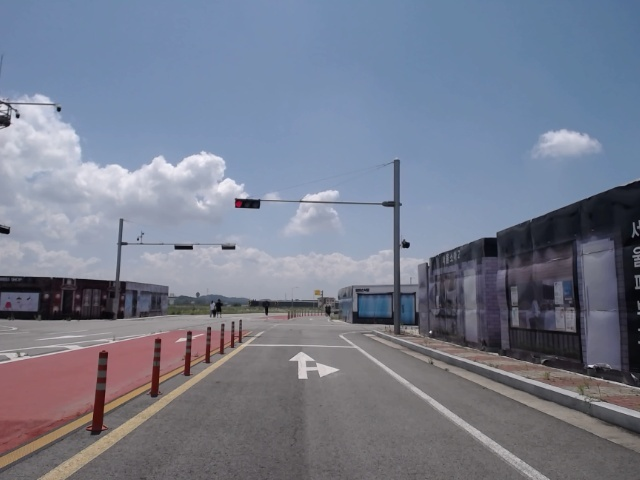red_3: (233, 197, 263, 211)
